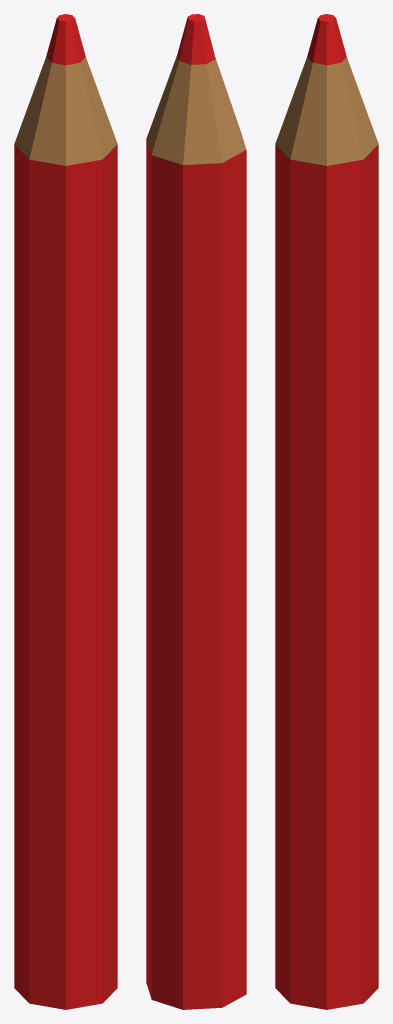
The model's file is LapizRojo.fbx.
The picture shows the model from 3 angles, left to right: view 1: azimuth 90°, elevation 25°; view 2: azimuth 210°, elevation 25°; view 3: azimuth 270°, elevation 25°; orthographic projection.
Parts seen in each view (by area): view 1: Cylinder.001; view 2: Cylinder.001; view 3: Cylinder.001.
Boxes of the visible parts, left/top/right/bottom form: Cylinder.001: left=14, top=14, right=117, bottom=1009; Cylinder.001: left=146, top=14, right=246, bottom=1009; Cylinder.001: left=275, top=14, right=378, bottom=1009.
Size of the model in its own units: 50 by 517 by 50.
